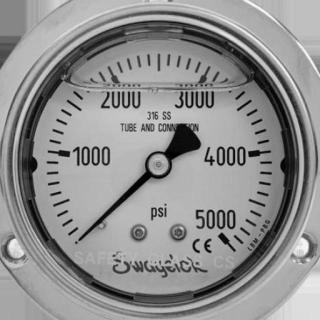gauge: (0, 0, 320, 320), (192, 208, 246, 258), (61, 218, 100, 258), (144, 150, 172, 180), (72, 230, 90, 248)
